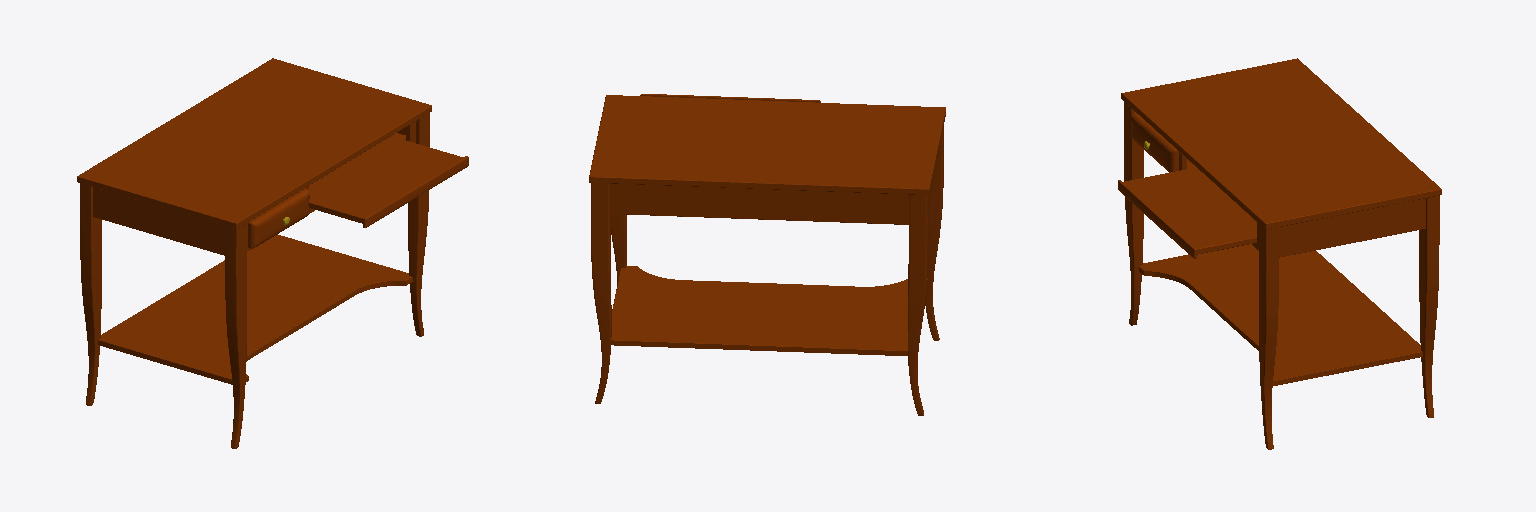
The model's file is computer_desk.obj.
The picture shows the model from 3 angles: view 1: azimuth 30°, elevation 25°; view 2: azimuth 150°, elevation 25°; view 3: azimuth 270°, elevation 25°; orthographic projection.
Visible parts, largest first — view 1: Box001, Line005, Box008, Box003, Line002, Line003, Line001, Box007, Box010; view 2: Box001, Line005, Box005, Line004, Line003, Line002, Line001; view 3: Box001, Line005, Box008, Box004, Line001, Line004, Line002, Box007, Box010.
Boxes of the visible parts, box(x1,y1,x2,y2) form: Box001: box(77, 58, 431, 228); Line005: box(98, 234, 412, 384); Box008: box(309, 136, 463, 223); Box003: box(93, 187, 224, 255); Line002: box(225, 223, 246, 448); Line003: box(80, 183, 101, 405); Line001: box(408, 113, 429, 336); Box007: box(248, 188, 309, 248); Box010: box(363, 156, 468, 227); Box001: box(589, 95, 945, 194); Line005: box(611, 266, 927, 355); Box005: box(610, 184, 908, 224); Line004: box(591, 183, 611, 403); Line003: box(908, 195, 928, 415); Line002: box(925, 126, 943, 340); Line001: box(611, 214, 626, 284); Box001: box(1121, 58, 1441, 229); Line005: box(1139, 244, 1422, 385); Box008: box(1123, 167, 1256, 254); Box004: box(1279, 198, 1425, 257); Line001: box(1259, 224, 1278, 449); Line004: box(1419, 196, 1439, 417); Line002: box(1124, 102, 1143, 325); Box007: box(1131, 112, 1178, 172); Box010: box(1118, 180, 1196, 258).
Bounding box in the file's own units: 1208 × 779 × 997.